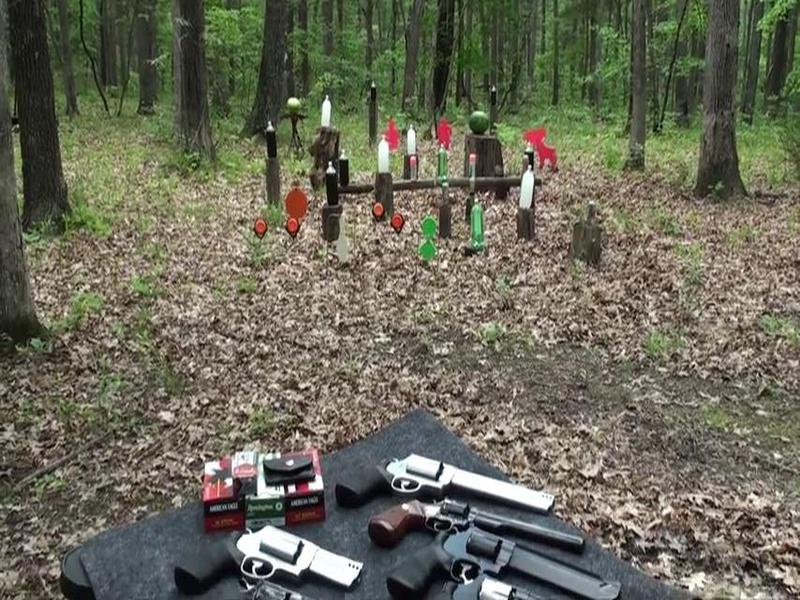Revolver: (332, 435, 577, 527), (366, 511, 606, 600)
